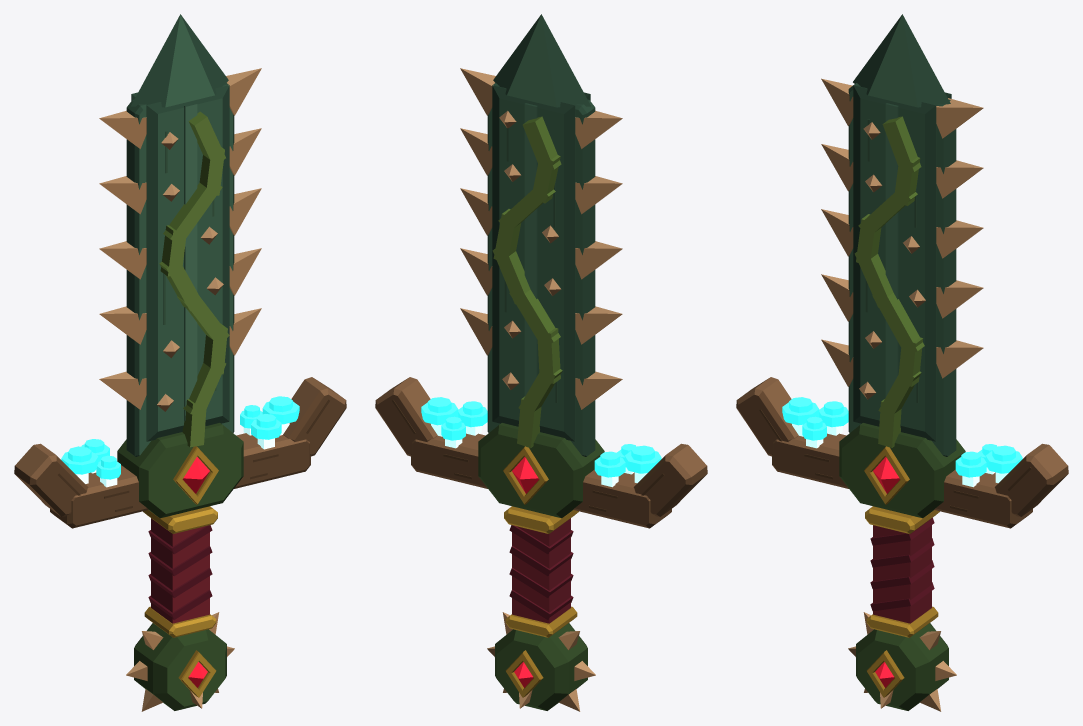
File: thorn_blade.glb
The picture shows the model from 3 angles, left to right: view 1: azimuth 30°, elevation 25°; view 2: azimuth 150°, elevation 25°; view 3: azimuth 330°, elevation 25°; orthographic projection.
Parts seen in each view (by area): view 1: blade_face_front, vine_front, guard_housing, blade_core, guard_bar, blade_point, pommel, grip_core, blade_ridge, guard_arm_l, guard_arm_r, mushroom_r (+17 smaller); view 2: blade_face_back, vine_back, guard_housing, blade_core, guard_bar, blade_point, pommel, grip_core, guard_arm_l, blade_ridge, guard_arm_r, mushroom_r (+17 smaller); view 3: blade_face_front, vine_front, guard_housing, blade_core, guard_bar, blade_point, pommel, grip_core, guard_arm_r, guard_arm_l, blade_ridge, mushroom_l (+17 smaller).
Boxes of the visible parts, x1=… form: blade_face_front: x1=146, y1=85, x2=229, y2=441; vine_front: x1=159, y1=111, x2=229, y2=447; guard_housing: x1=117, y1=423, x2=243, y2=518; blade_core: x1=126, y1=83, x2=234, y2=456; guard_bar: x1=50, y1=433, x2=310, y2=528; blade_point: x1=131, y1=14, x2=228, y2=107; pommel: x1=134, y1=623, x2=226, y2=710; grip_core: x1=151, y1=518, x2=209, y2=623; blade_ridge: x1=184, y1=103, x2=197, y2=420; guard_arm_l: x1=14, y1=443, x2=88, y2=516; guard_arm_r: x1=283, y1=377, x2=346, y2=456; mushroom_r: x1=240, y1=396, x2=299, y2=449; blade_face_back: x1=492, y1=85, x2=575, y2=441; vine_back: x1=492, y1=116, x2=562, y2=448; guard_housing: x1=478, y1=423, x2=604, y2=518; blade_core: x1=487, y1=83, x2=595, y2=456; guard_bar: x1=411, y1=433, x2=671, y2=528; blade_point: x1=493, y1=14, x2=590, y2=107; pommel: x1=495, y1=623, x2=587, y2=710; grip_core: x1=512, y1=518, x2=570, y2=623; guard_arm_l: x1=633, y1=443, x2=707, y2=516; blade_ridge: x1=524, y1=103, x2=537, y2=395; guard_arm_r: x1=375, y1=377, x2=437, y2=456; mushroom_r: x1=421, y1=397, x2=487, y2=448; blade_face_front: x1=853, y1=85, x2=936, y2=441; vine_front: x1=854, y1=116, x2=924, y2=447; guard_housing: x1=839, y1=423, x2=965, y2=518; blade_core: x1=848, y1=83, x2=956, y2=456; guard_bar: x1=772, y1=433, x2=1032, y2=528; blade_point: x1=853, y1=14, x2=950, y2=107; pommel: x1=856, y1=623, x2=948, y2=710; grip_core: x1=873, y1=518, x2=931, y2=623; guard_arm_r: x1=994, y1=443, x2=1068, y2=516; guard_arm_l: x1=736, y1=377, x2=798, y2=456; blade_ridge: x1=885, y1=103, x2=898, y2=396; mushroom_l: x1=782, y1=397, x2=848, y2=448.
Size of the model in its own units: 0.6362 by 1.32 by 0.16.
